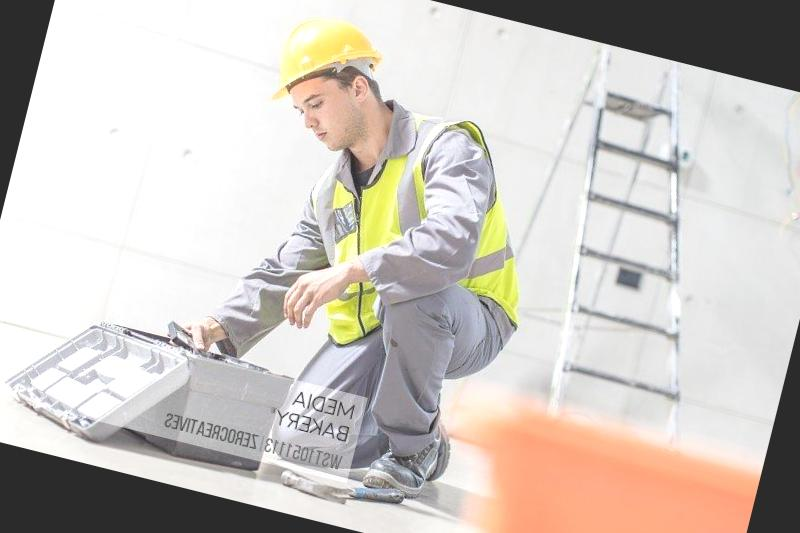helmet: (261, 0, 394, 131)
person: (190, 3, 558, 447)
